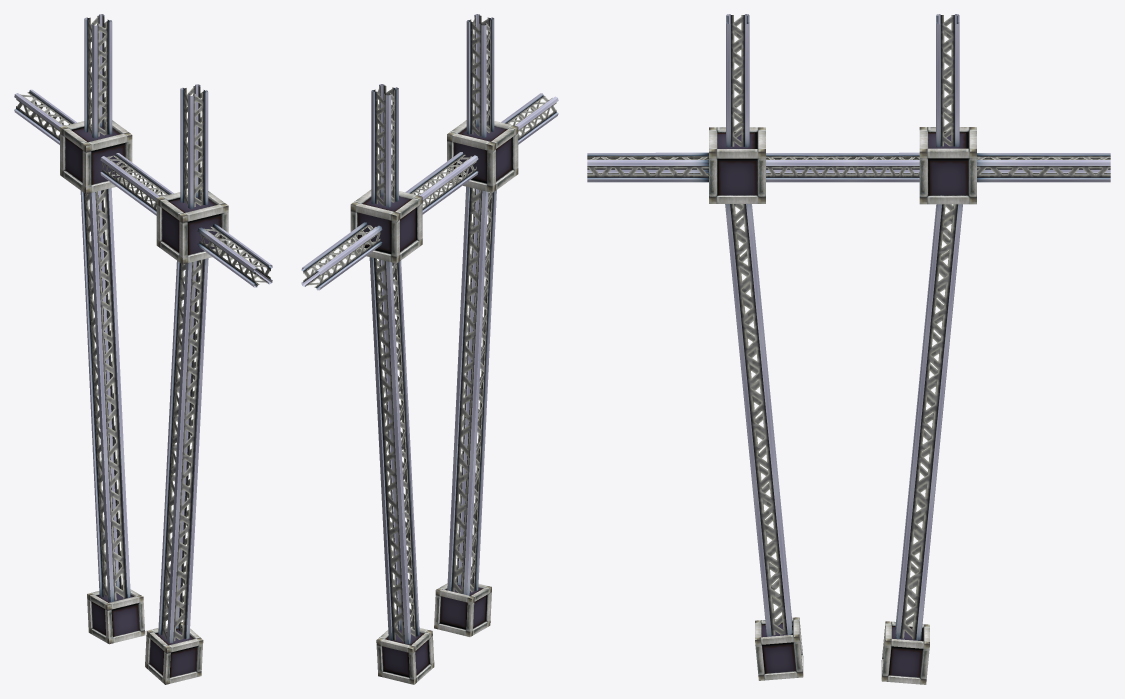
File: mast_medium.DAE
3 views of the same model, side by side, from view 1: azimuth 30°, elevation 25°; view 2: azimuth 150°, elevation 25°; view 3: azimuth 270°, elevation 25° (orthographic). The views are drawn at different scales.
Parts seen in each view (by area): view 1: Object06; view 2: Object06; view 3: Object06.
Part boxes in pixels (x1,y1,x2,y2): Object06: [14, 14, 272, 684]; Object06: [301, 14, 558, 684]; Object06: [587, 14, 1110, 684].
Size of the model in its own units: 4.25 by 52.62 by 38.01.
